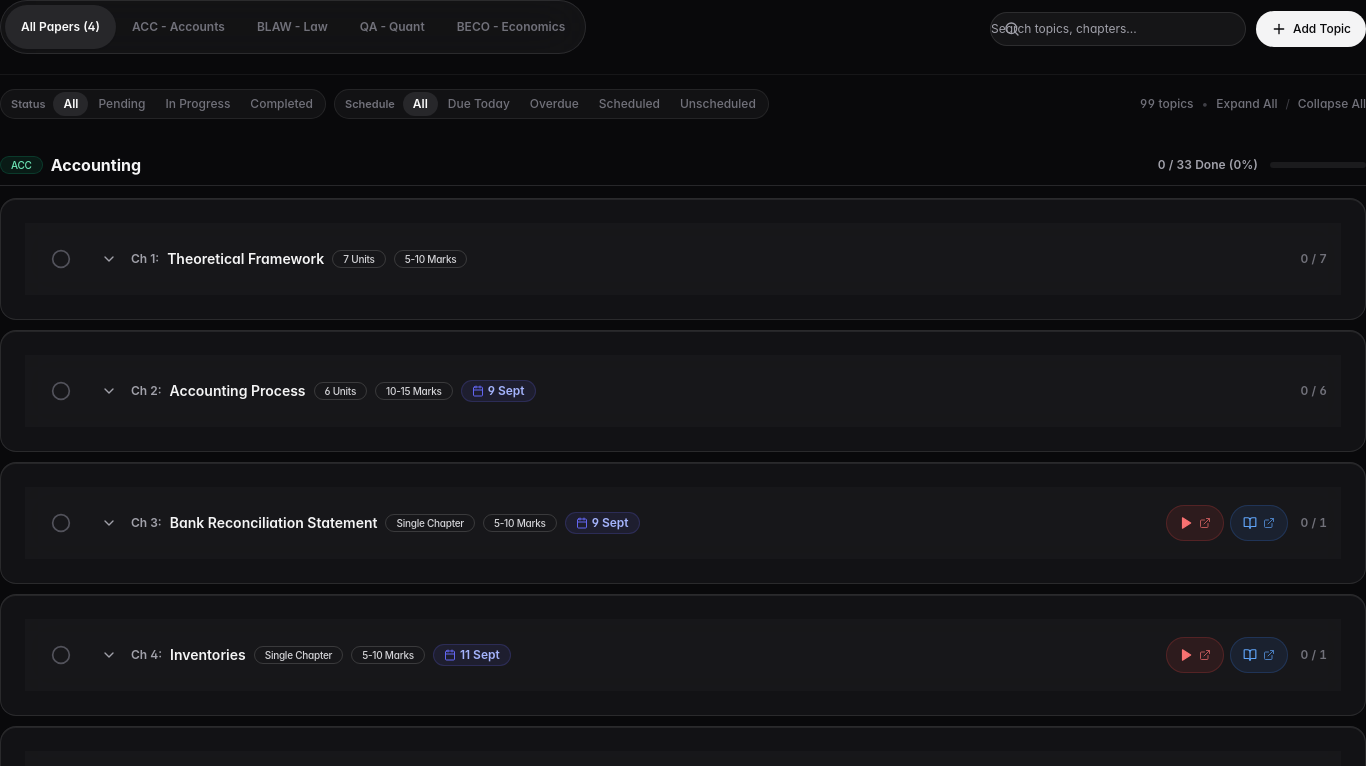
it: Tier 1 - Feature 11: Custom Topic & Chapter Creation Modal › assigns user-selected subject paper to the custom topic
Click the button "Add Topic" at [1311, 29], box top-left (1256, 11), bottom-right (1365, 47)
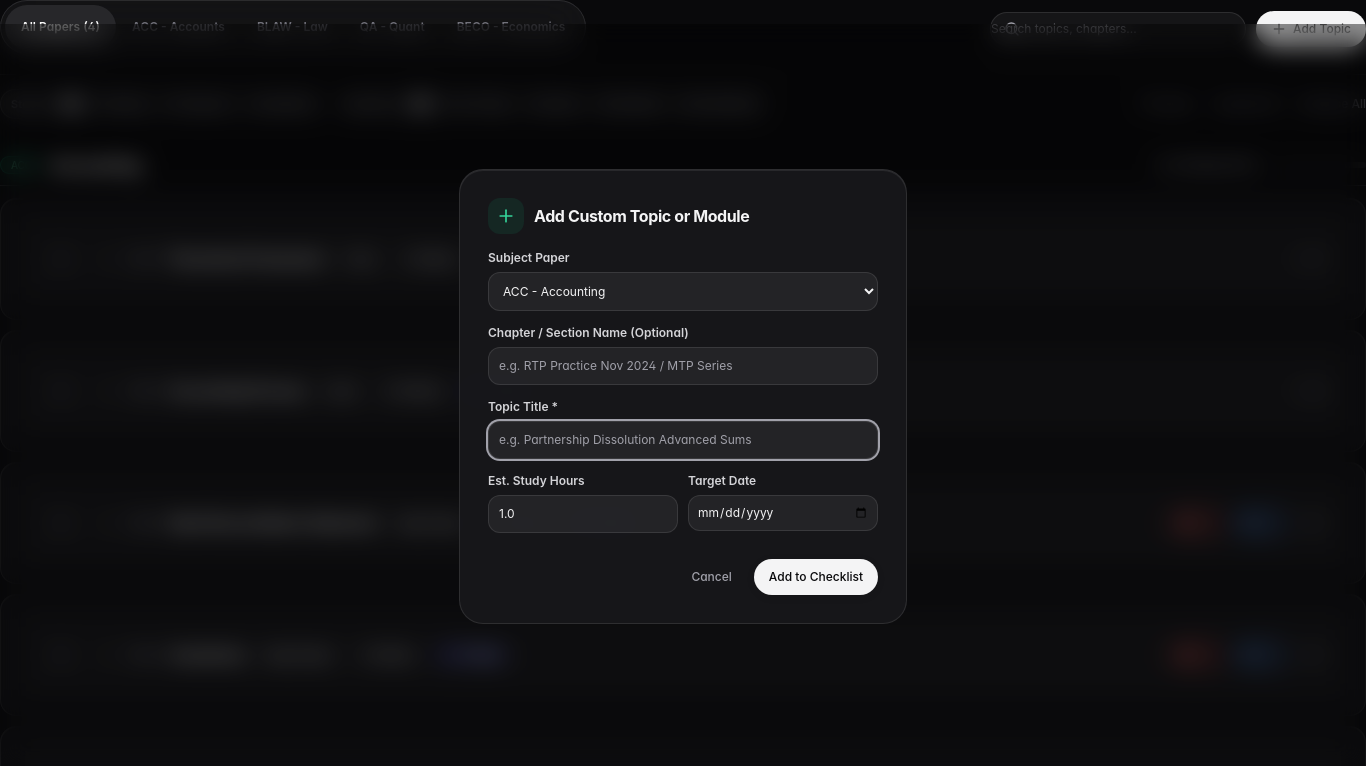
Select "BLAW - Business Laws" in the dropdown at [683, 291], box top-left (488, 272), bottom-right (878, 310)
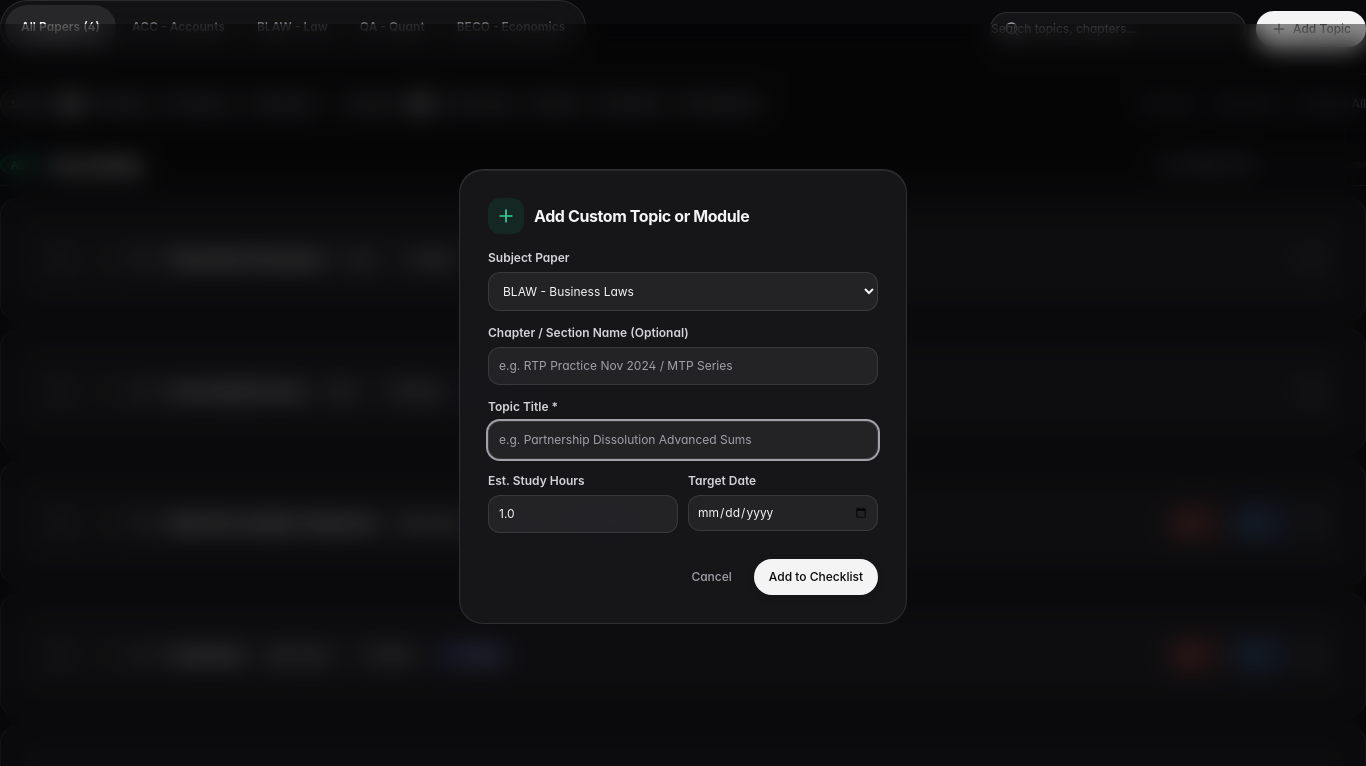
Type "Companies Act Extra Notes" into the field with placeholder "e.g. Partnership Dissolution Advanced Sums" at [683, 440], box top-left (488, 420), bottom-right (878, 458)
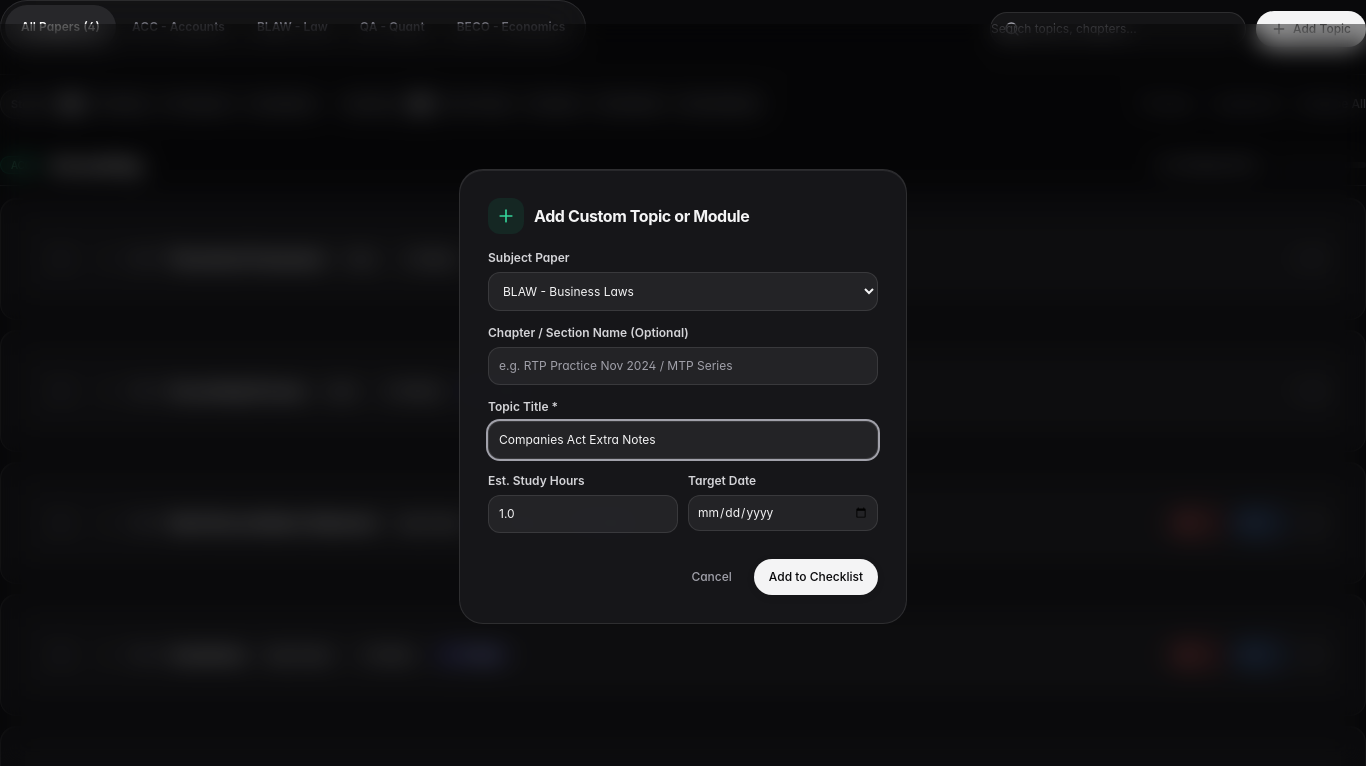
Submit the form named "Add to Checklist", box top-left (488, 250), bottom-right (878, 594)
(page scrolled)
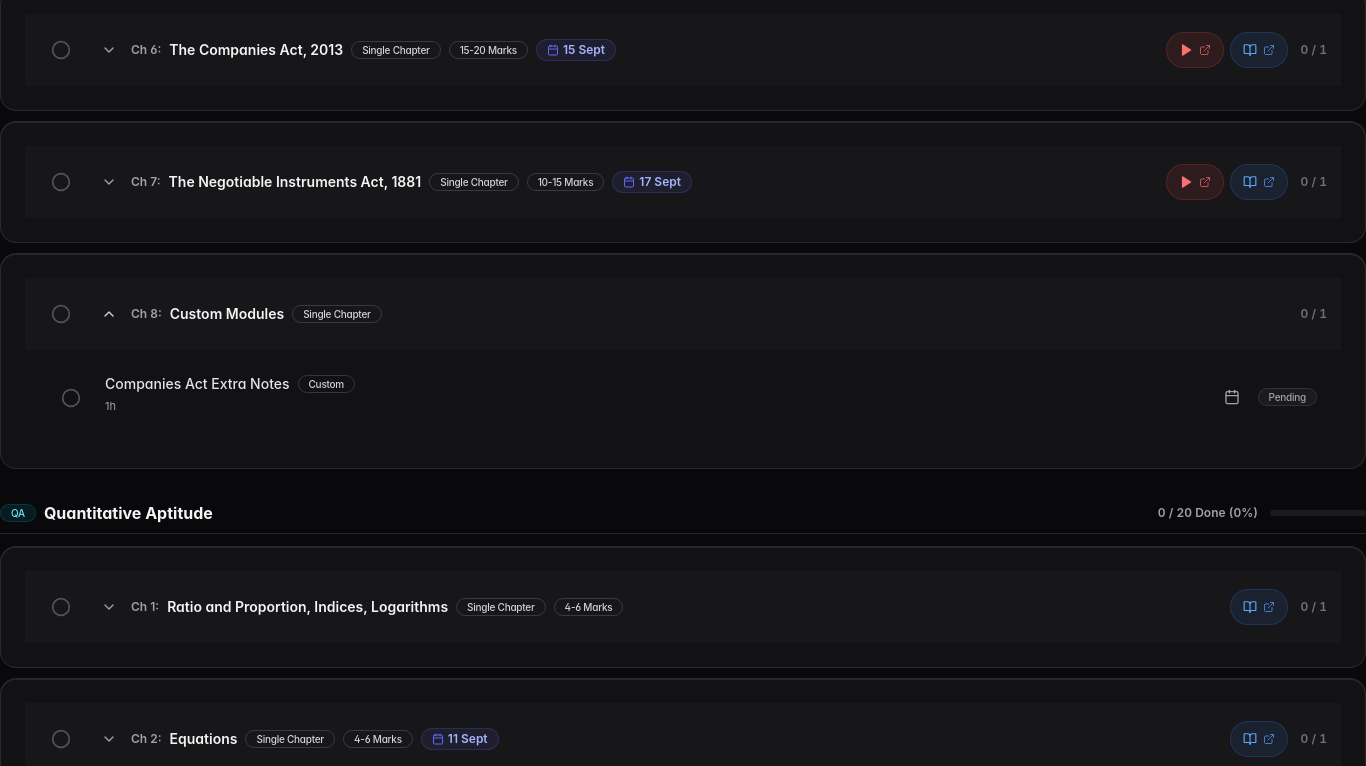
Expected: the text "Companies Act Extra Notes" is shown, top-left (105, 374), bottom-right (290, 394)
